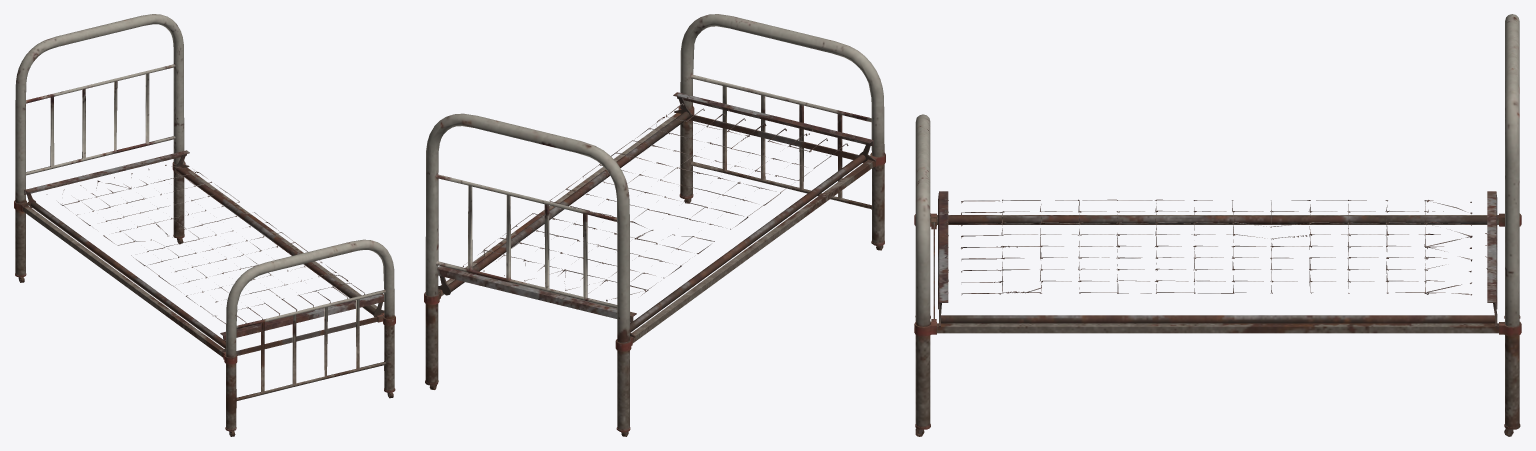
Rendered from old_bed_frame.9f886dd3d7.glb.
3 renders of one model, left to right at view 1: azimuth 30°, elevation 25°; view 2: azimuth 150°, elevation 25°; view 3: azimuth 270°, elevation 25°, orthographic. The views are drawn at different scales.
Parts seen in each view (by area): view 1: old_bed_frame; view 2: old_bed_frame; view 3: old_bed_frame.
Part boxes in pixels (x1,y1,x2,y2): old_bed_frame: [14, 14, 395, 436]; old_bed_frame: [424, 14, 885, 436]; old_bed_frame: [914, 14, 1521, 436].
Size of the model in its own units: 0.9047 by 1.2 by 2.
Materials: 1 (1 with a texture image).
